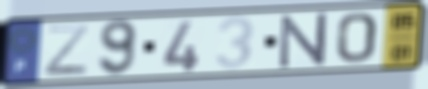0: (334, 11, 381, 65)
3: (214, 14, 261, 73)
4: (159, 17, 202, 74)
9: (96, 18, 139, 79)
N: (278, 10, 329, 71)
Z: (41, 23, 92, 77)
